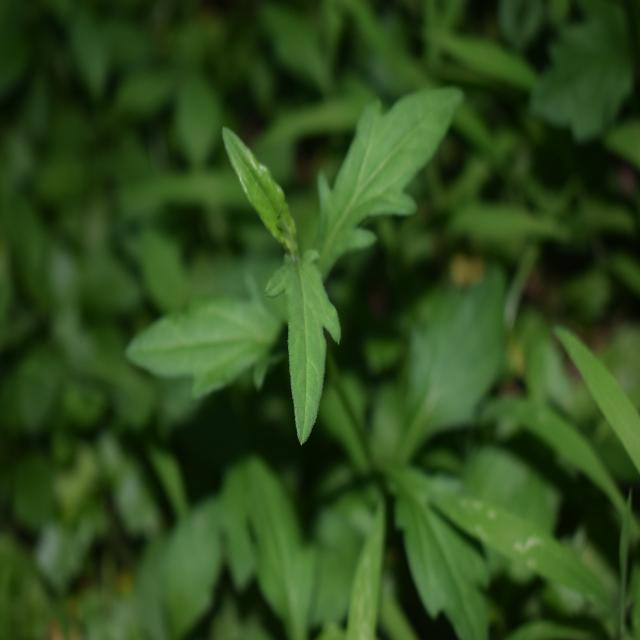Indian aster: (129, 59, 472, 493)
